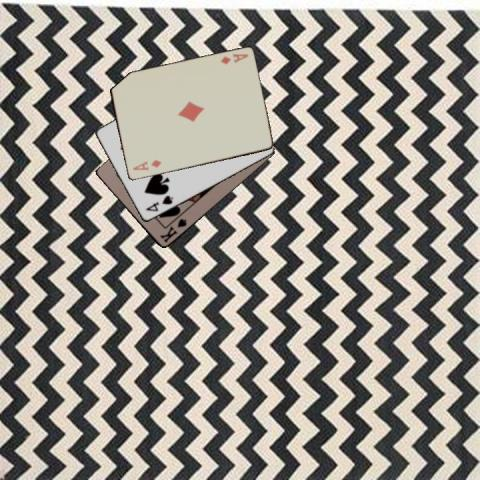4s: (142, 193, 174, 213)
Ad: (129, 157, 163, 172), (217, 51, 249, 66)
Ks: (157, 216, 188, 245)
